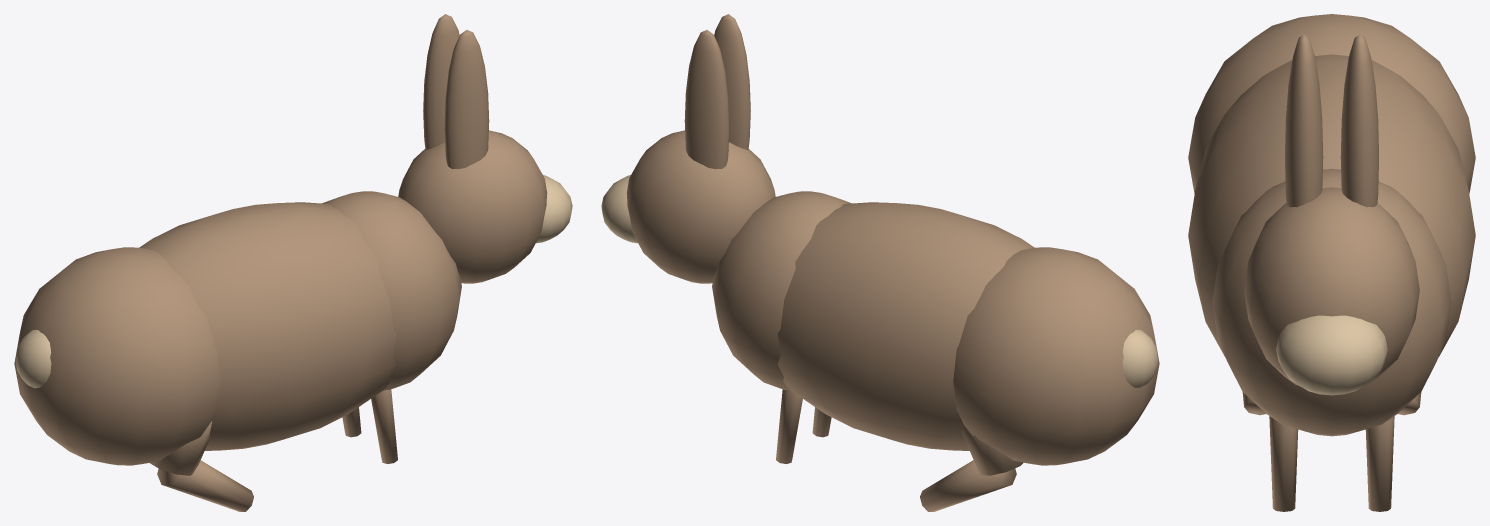
Rendered from small_prey.glb.
3 views of the same model, side by side, from view 1: azimuth 30°, elevation 25°; view 2: azimuth 150°, elevation 25°; view 3: azimuth 270°, elevation 25° (orthographic). The views are drawn at different scales.
Visible parts, largest first — view 1: body, rump, head, chest, ear_-1, ear_1, hind_shin_0, tail, muzzle, front_leg_0, hind_thigh_0; view 2: body, rump, head, chest, ear_1, ear_-1, hind_shin_1, tail, muzzle, front_leg_1, hind_thigh_1; view 3: body, head, chest, rump, muzzle, ear_-1, ear_1, front_leg_0, front_leg_1.
Boxes of the visible parts, x1,y1,x2,y2 form: body: (139,202,396,450); rump: (14,247,220,465); head: (398,130,547,283); chest: (322,191,461,390); ear_-1: (444,30,489,169); ear_1: (423,14,459,150); hind_shin_0: (157,460,253,511); tail: (15,330,51,388); muzzle: (536,175,572,243); front_leg_0: (371,389,397,463); hind_thigh_0: (150,421,212,475); body: (777,202,1034,450); rump: (953,247,1159,465); head: (626,130,775,283); chest: (712,191,851,390); ear_1: (684,30,729,169); ear_-1: (714,14,750,150); hind_shin_1: (920,460,1016,511); tail: (1122,330,1158,388); muzzle: (601,175,637,243); front_leg_1: (776,389,802,463); hind_thigh_1: (961,425,1023,475); body: (1188,54,1475,356); head: (1244,187,1419,386); chest: (1212,168,1451,436); rump: (1188,14,1475,193); muzzle: (1276,315,1387,395); ear_-1: (1285,34,1323,207); ear_1: (1340,34,1378,207); front_leg_0: (1269,416,1298,511); front_leg_1: (1365,416,1394,511).
Bounding box in the file's own units: 0.8307 × 0.5952 × 0.289.
